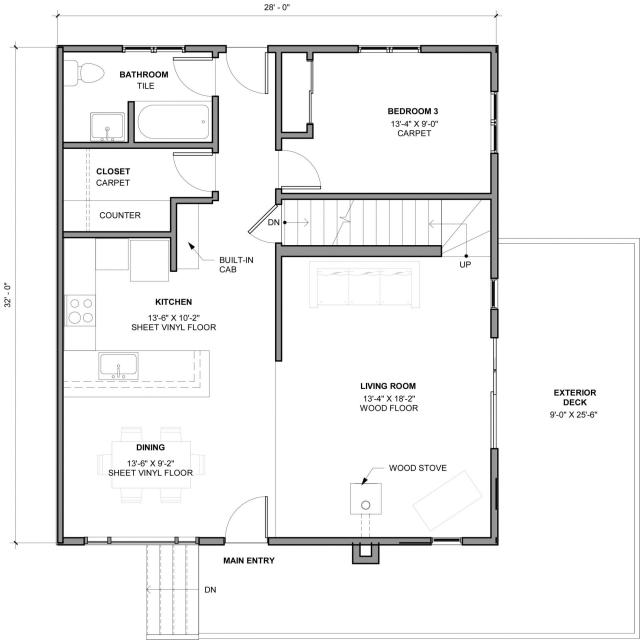Door: (223, 43, 271, 95), (225, 495, 272, 546), (171, 55, 221, 98), (275, 149, 322, 190), (172, 153, 218, 190), (244, 203, 284, 245), (306, 58, 321, 95)
OuterWall: (60, 48, 495, 541)
Wall: (215, 48, 217, 198), (278, 196, 495, 197), (279, 250, 441, 251), (174, 201, 174, 269), (279, 48, 279, 360)
window: (82, 534, 202, 548), (488, 336, 501, 451), (488, 89, 501, 155), (356, 44, 423, 56), (121, 44, 186, 54), (488, 276, 502, 312), (429, 534, 465, 548)
